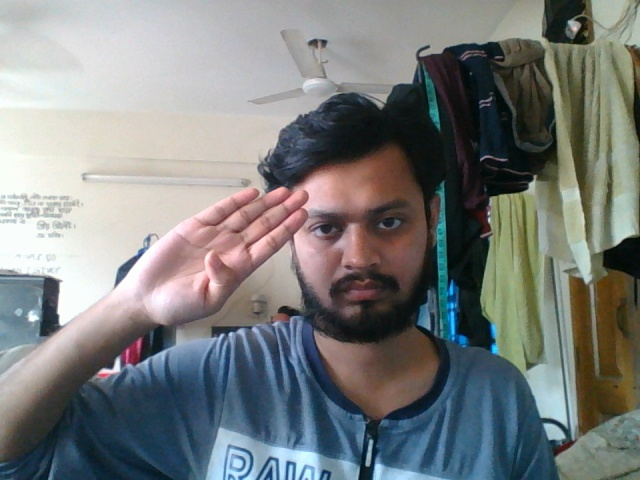salam: (101, 181, 321, 339)
